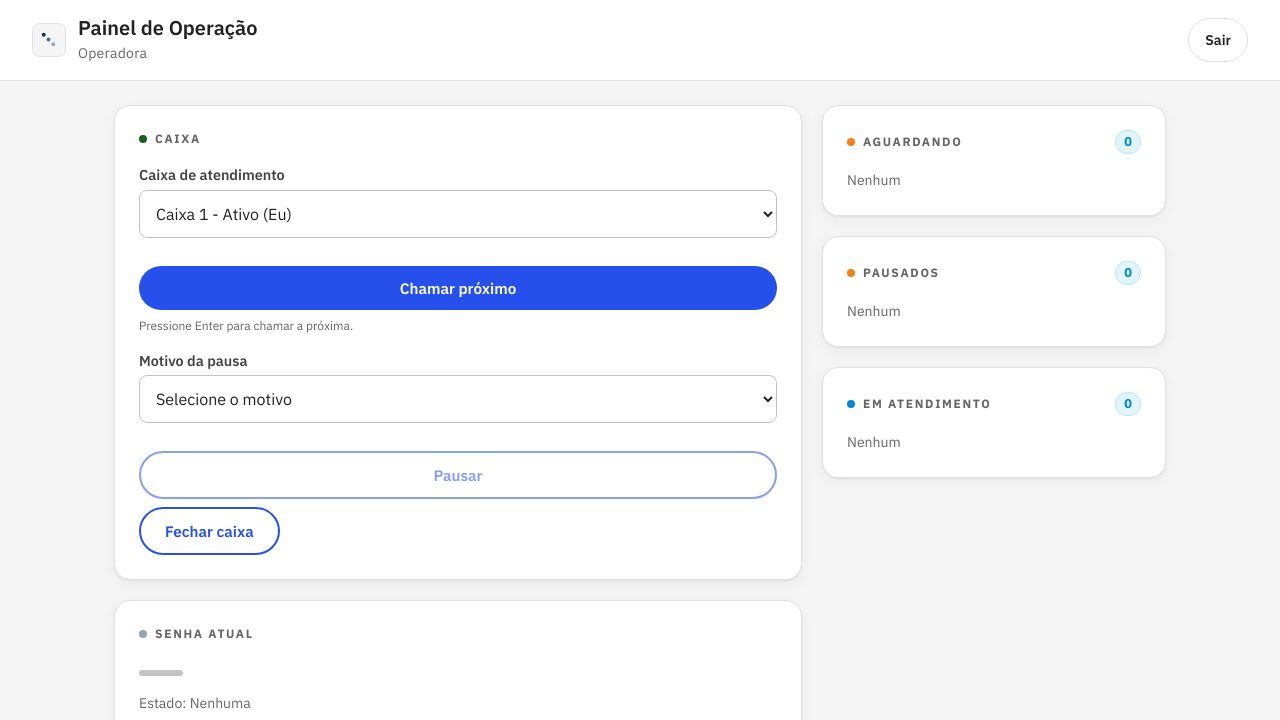
Test: OperationPage coverage › shows an error when an action fails
Click the button "Chamar próximo". click: [458, 288]
box: [139, 266, 777, 310]
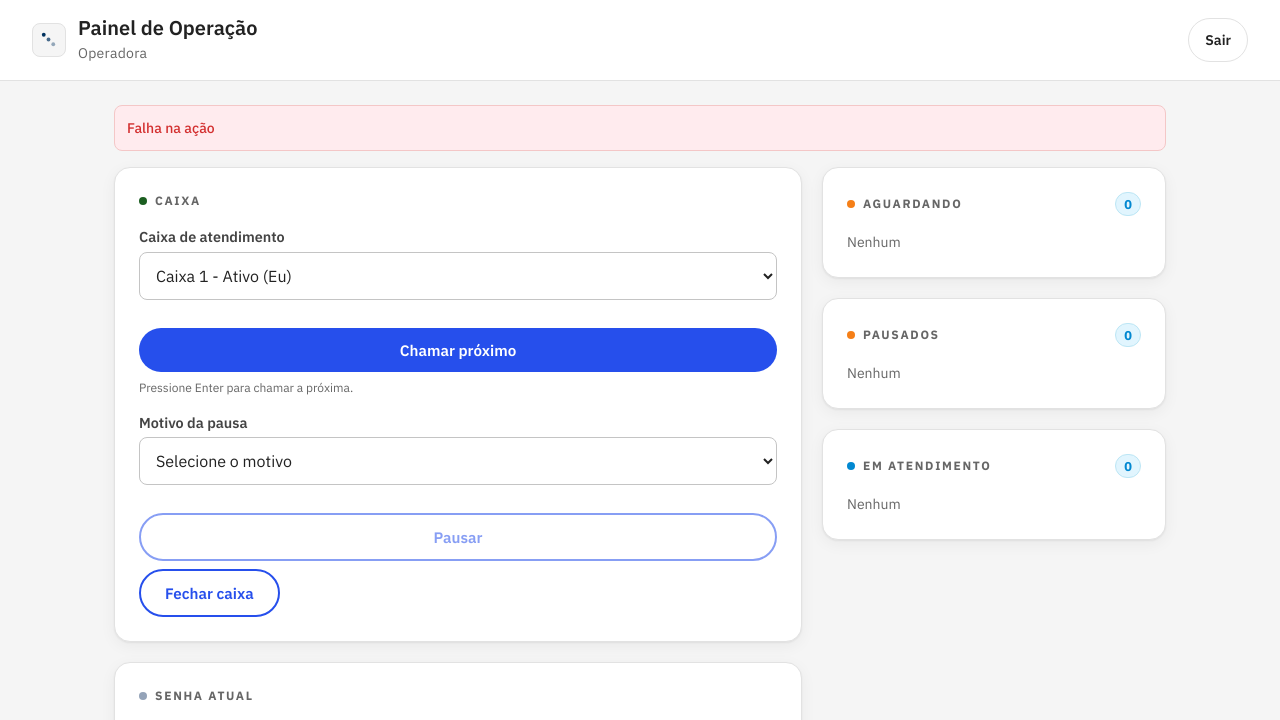
Now the text "Falha na ação" is shown, box [114, 105, 1166, 151]
